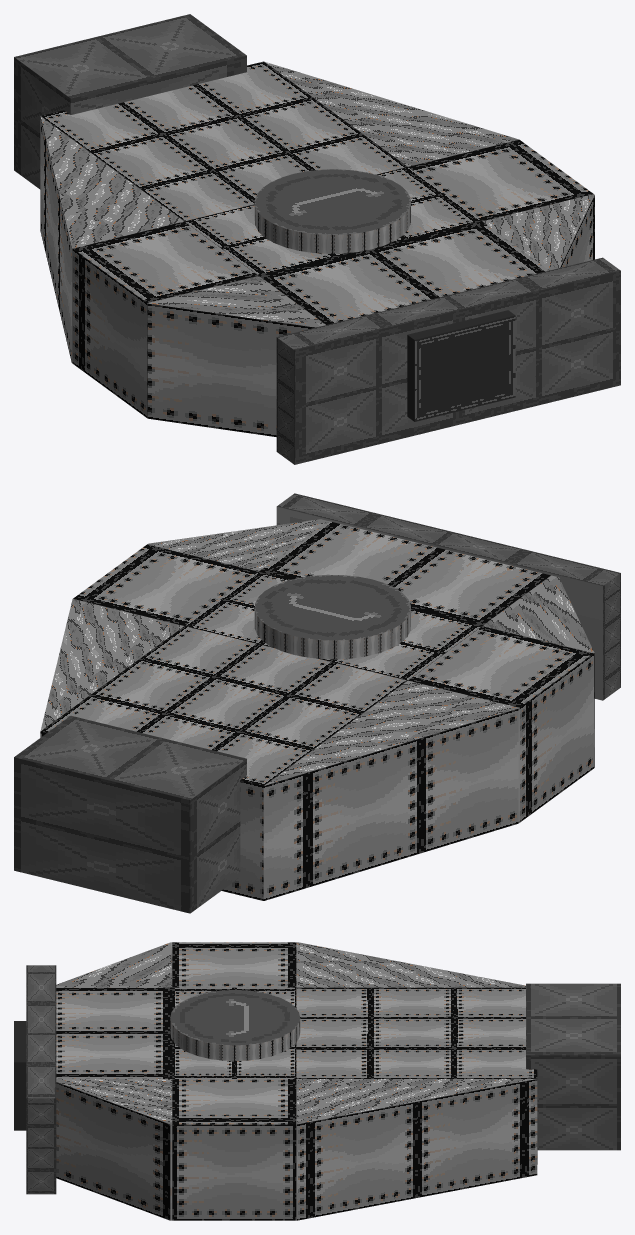
The model's file is TankTurret-01.fbx.
3 views of the same model, one above another, from view 1: azimuth 30°, elevation 25°; view 2: azimuth 150°, elevation 25°; view 3: azimuth 270°, elevation 25° (orthographic). The views are drawn at different scales.
Parts seen in each view (by area): view 1: Cube; view 2: Cube; view 3: Cube.
Part boxes in pixels (box(x1,y1,x2,y2)): Cube: box(14, 14, 620, 464); Cube: box(14, 493, 620, 913); Cube: box(14, 942, 620, 1220).
Size of the model in its own units: 75.72 by 21.69 by 107.
